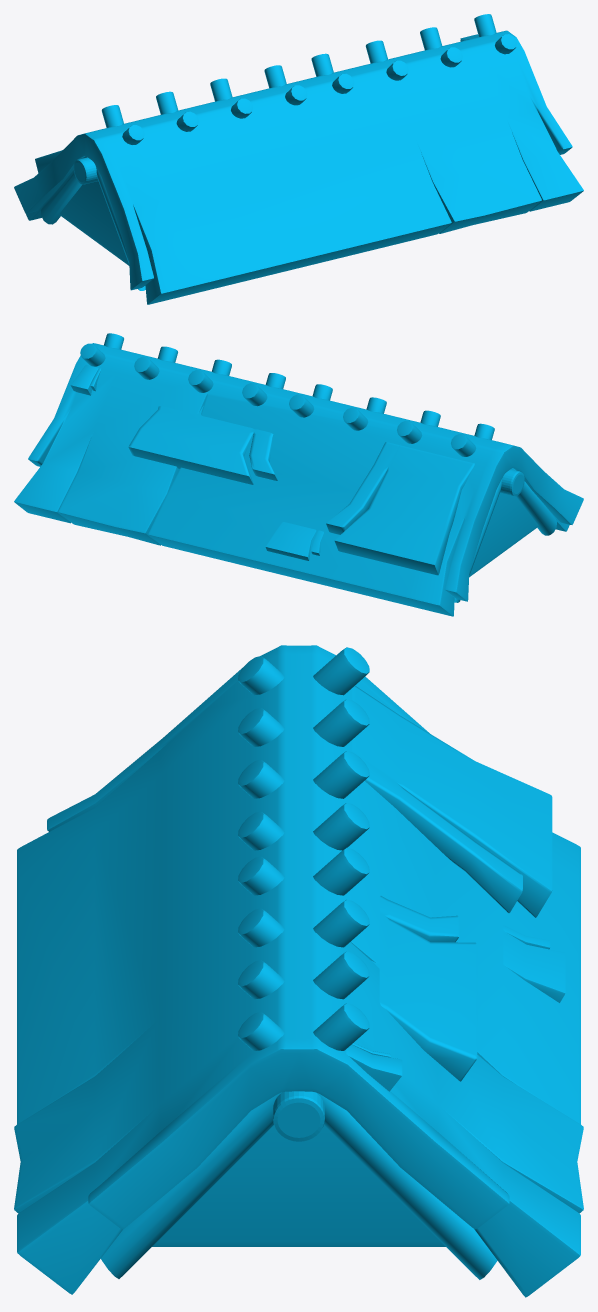
The model's file is SM_Clay_Roof_07.fbx.
The picture shows the model from 3 angles, top to bottom: view 1: azimuth 30°, elevation 25°; view 2: azimuth 150°, elevation 25°; view 3: azimuth 270°, elevation 25°; orthographic projection. The views are drawn at different scales.
Visible parts, largest first — view 1: SM_Clay_Roof_07; view 2: SM_Clay_Roof_07; view 3: SM_Clay_Roof_07.
Boxes of the visible parts, x1=… form: SM_Clay_Roof_07: x1=14, y1=14, x2=583, y2=304; SM_Clay_Roof_07: x1=14, y1=333, x2=583, y2=616; SM_Clay_Roof_07: x1=14, y1=645, x2=583, y2=1297.
Bounding box in the file's own units: 2.1 × 0.6438 × 1.2.
